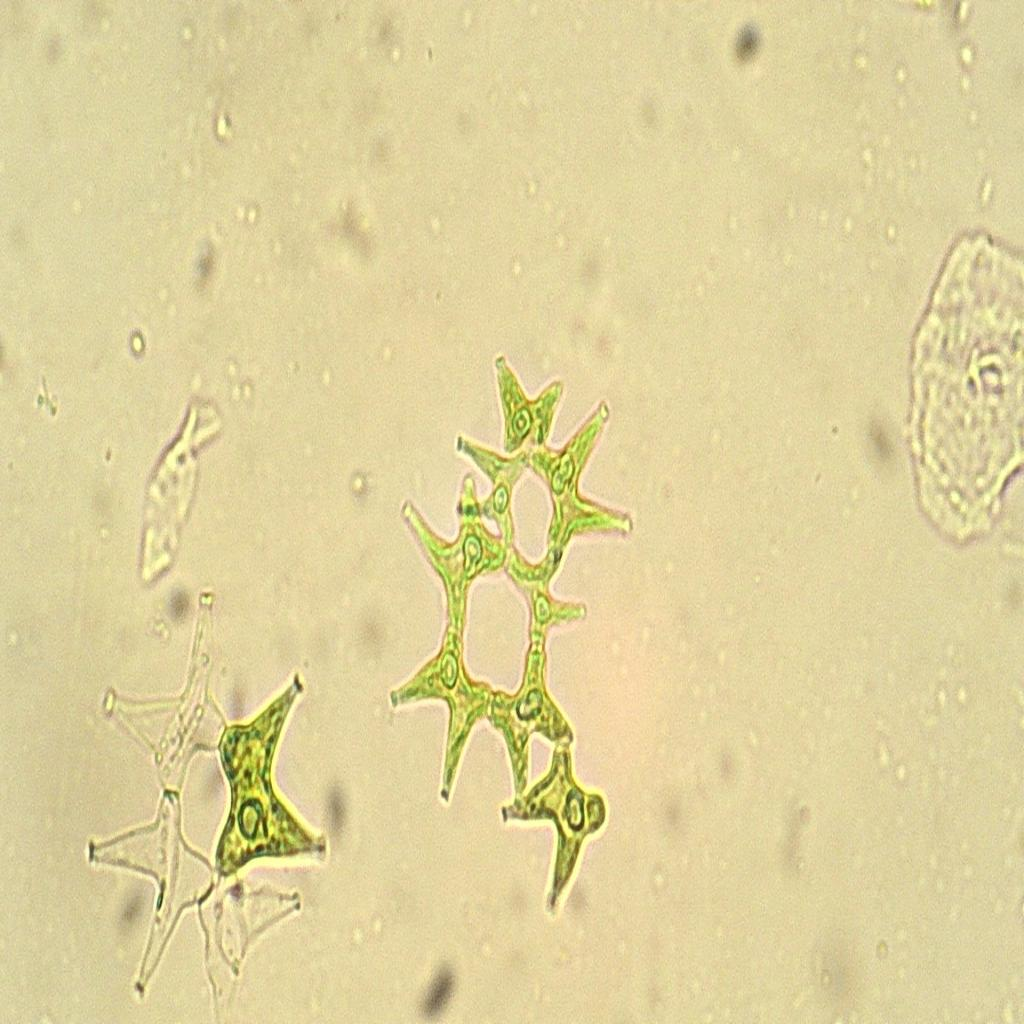Pediastrum_1TH: (384, 323, 648, 925)
